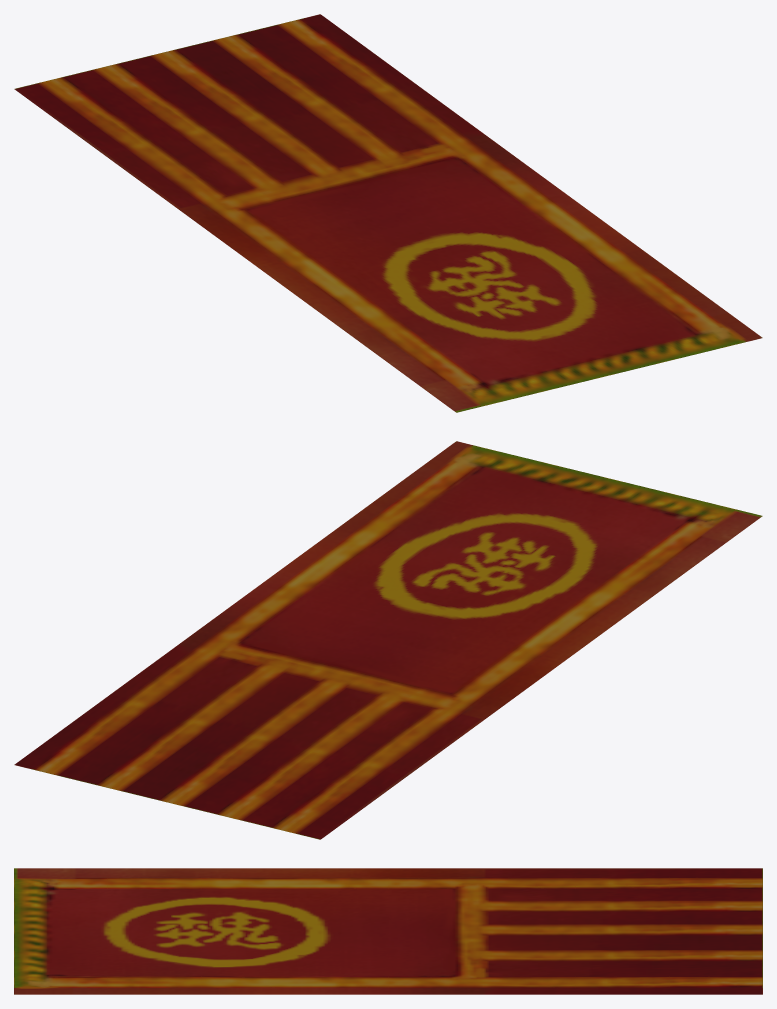
File: oMscFlag01CBa.FBX
3 views of the same model, one above another, from view 1: azimuth 30°, elevation 25°; view 2: azimuth 150°, elevation 25°; view 3: azimuth 270°, elevation 25° (orthographic). The views are drawn at different scales.
Visible parts, largest first — view 1: oMscFlag01CBa; view 2: oMscFlag01CBa; view 3: oMscFlag01CBa.
Boxes of the visible parts, x1,y1,x2,y2 form: oMscFlag01CBa: [14, 14, 762, 412]; oMscFlag01CBa: [14, 441, 762, 839]; oMscFlag01CBa: [14, 868, 762, 994].
Size of the model in its own units: 397 by 0.00013 by 992.
Materials: 1 (1 with a texture image).
